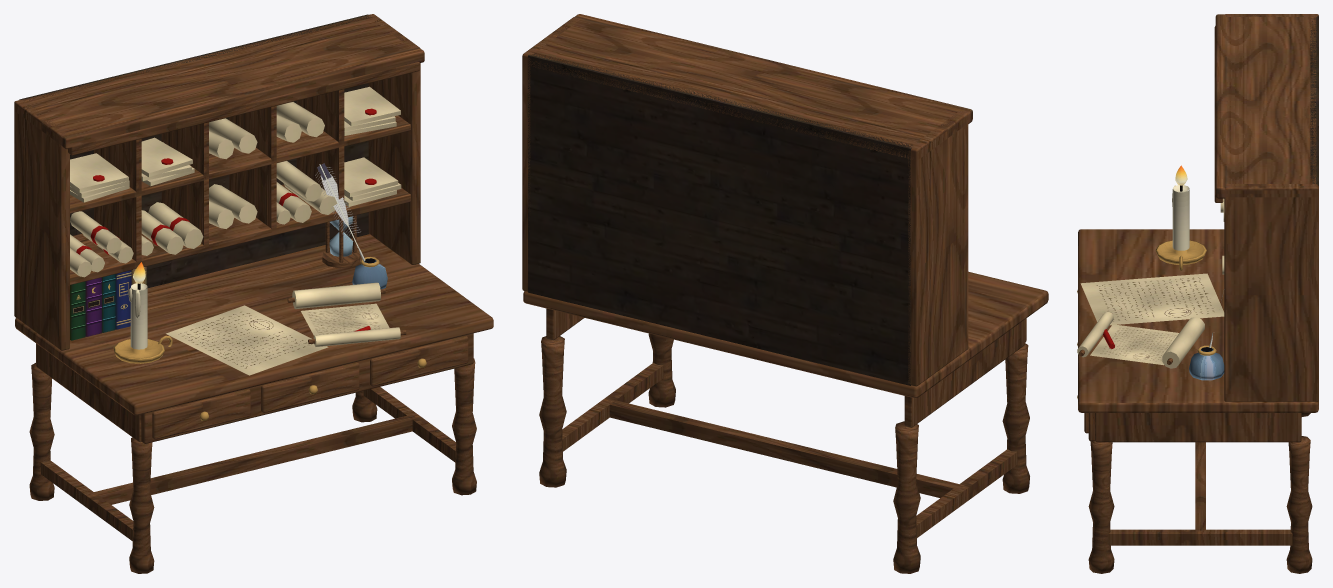
Rendered from prop_writingDesk.glb.
The picture shows the model from 3 angles, left to right: view 1: azimuth 30°, elevation 25°; view 2: azimuth 150°, elevation 25°; view 3: azimuth 270°, elevation 25°; orthographic projection. The views are drawn at different scales.
Visible parts, largest first — view 1: prop; view 2: prop; view 3: prop.
Part boxes in pixels (x1=…): prop: x1=14, y1=14, x2=493, y2=573; prop: x1=522, y1=14, x2=1048, y2=573; prop: x1=1077, y1=14, x2=1318, y2=573.
Size of what is drawn, in the model's own units: 0.96 by 1 by 0.562.
14 materials, 10 textured.
